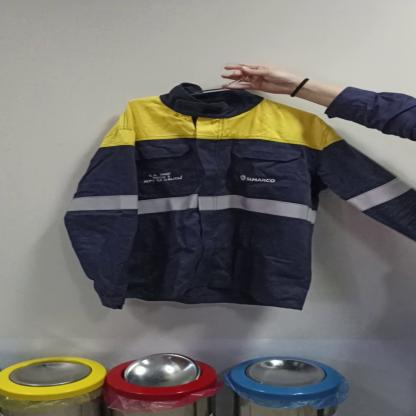C_eletrica: (64, 90, 416, 312)
